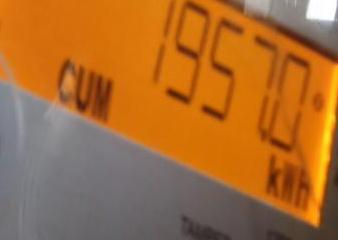.: (259, 151, 322, 216)
0: (261, 128, 269, 142)
1: (268, 53, 316, 156)
2: (149, 2, 177, 84)
6: (201, 17, 247, 123)
8: (239, 33, 282, 137)
:: (166, 0, 212, 108)
